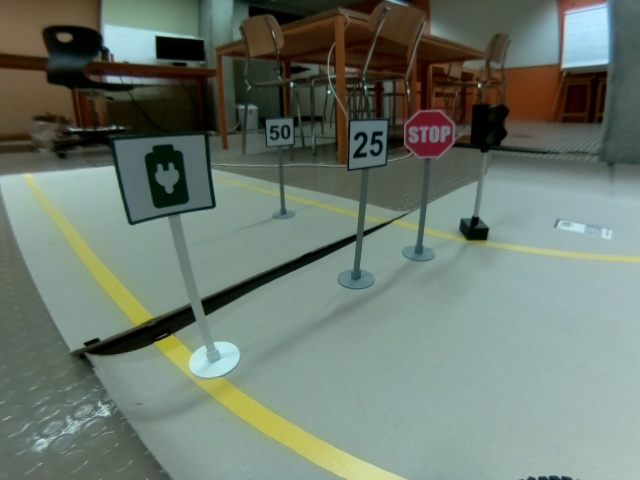battery: (109, 130, 216, 227)
speed25: (346, 118, 390, 172)
speed50: (265, 118, 296, 146)
stop: (403, 110, 456, 159)
trafficLightOff: (472, 101, 509, 148)
